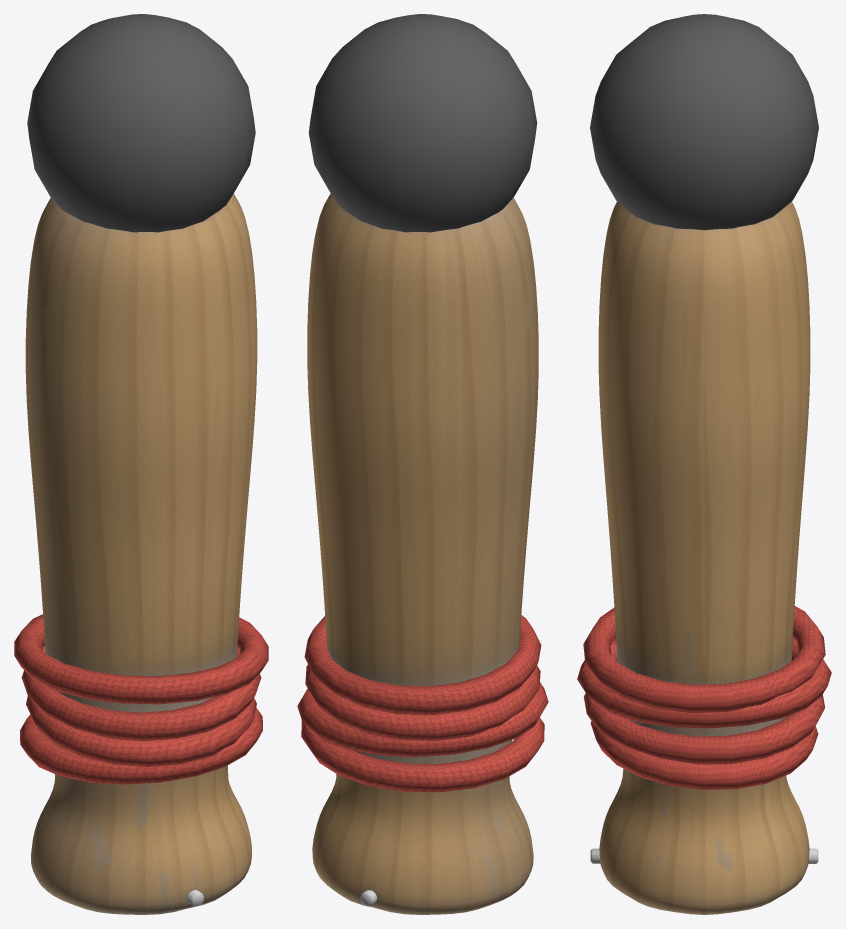
File: LowerLeg_L.glb
The picture shows the model from 3 angles, left to right: view 1: azimuth 30°, elevation 25°; view 2: azimuth 150°, elevation 25°; view 3: azimuth 270°, elevation 25°; orthographic projection.
Visible parts, largest first — view 1: LowerLeg_L, LowerLeg_L_Ball, LowerLeg_L_Wrap; view 2: LowerLeg_L, LowerLeg_L_Ball, LowerLeg_L_Wrap; view 3: LowerLeg_L, LowerLeg_L_Ball, LowerLeg_L_Wrap.
Part boxes in pixels (box(x1,y1,x2,y2)): LowerLeg_L: box(25, 194, 257, 914); LowerLeg_L_Ball: box(27, 14, 255, 232); LowerLeg_L_Wrap: box(14, 614, 268, 784); LowerLeg_L: box(307, 193, 538, 914); LowerLeg_L_Ball: box(308, 14, 537, 232); LowerLeg_L_Wrap: box(297, 615, 548, 792); LowerLeg_L: box(598, 201, 810, 914); LowerLeg_L_Ball: box(590, 14, 818, 230); LowerLeg_L_Wrap: box(577, 606, 831, 789).
Size of the model in its own units: 0.1248 by 0.4673 by 0.1267.
Materials: 4 (2 with a texture image).
